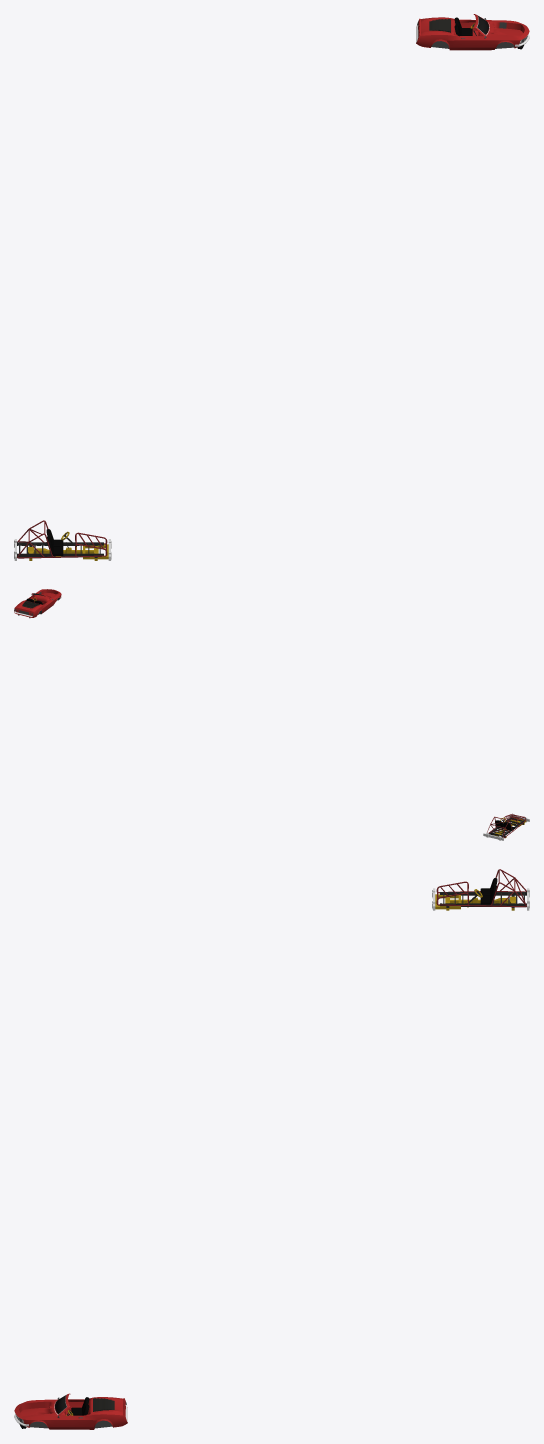
File: колесо 18.fbx
3 renders of one model, top to bottom at view 1: azimuth 90°, elevation 25°; view 2: azimuth 150°, elevation 25°; view 3: azimuth 270°, elevation 25°, orthographic. The views are drawn at different scales.
Visible parts, largest first — view 1: Body.027, Plane.002, Cube; view 2: Body.027; view 3: Body.027, Plane.002.
Part boxes in pixels (x1=…): Body.027: x1=416, y1=14, x2=529, y2=50; Plane.002: x1=17, y1=520, x2=107, y2=558; Cube: x1=17, y1=542, x2=103, y2=557; Body.027: x1=14, y1=589, x2=61, y2=618; Body.027: x1=14, y1=1393, x2=127, y2=1429; Plane.002: x1=436, y1=869, x2=526, y2=907.
Bounding box in the file's own units: 5998 × 166 × 2451.
